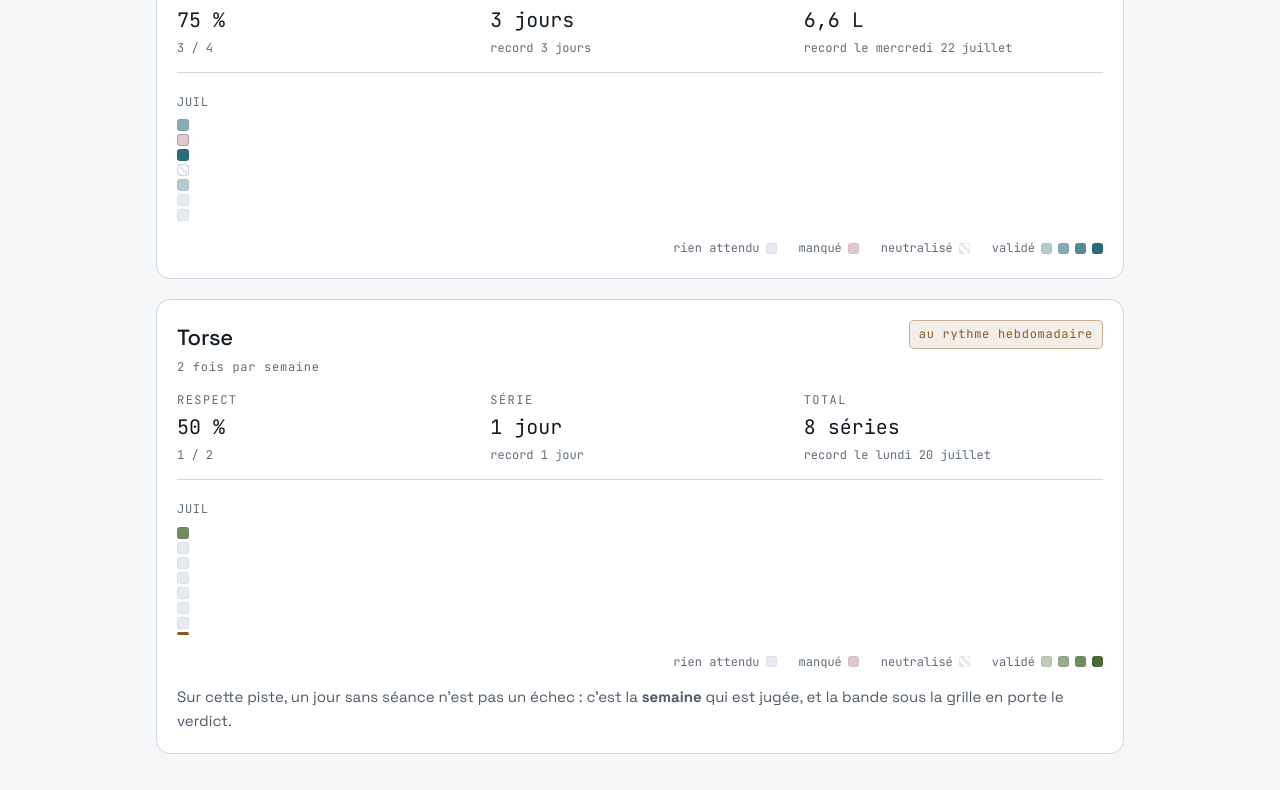
Test case: écran Assiduité › referme le tiroir
(page scrolled)
Click the button named "lundi 20 juillet, 8 série · validé" at (183, 532), box [177,526,189,538]
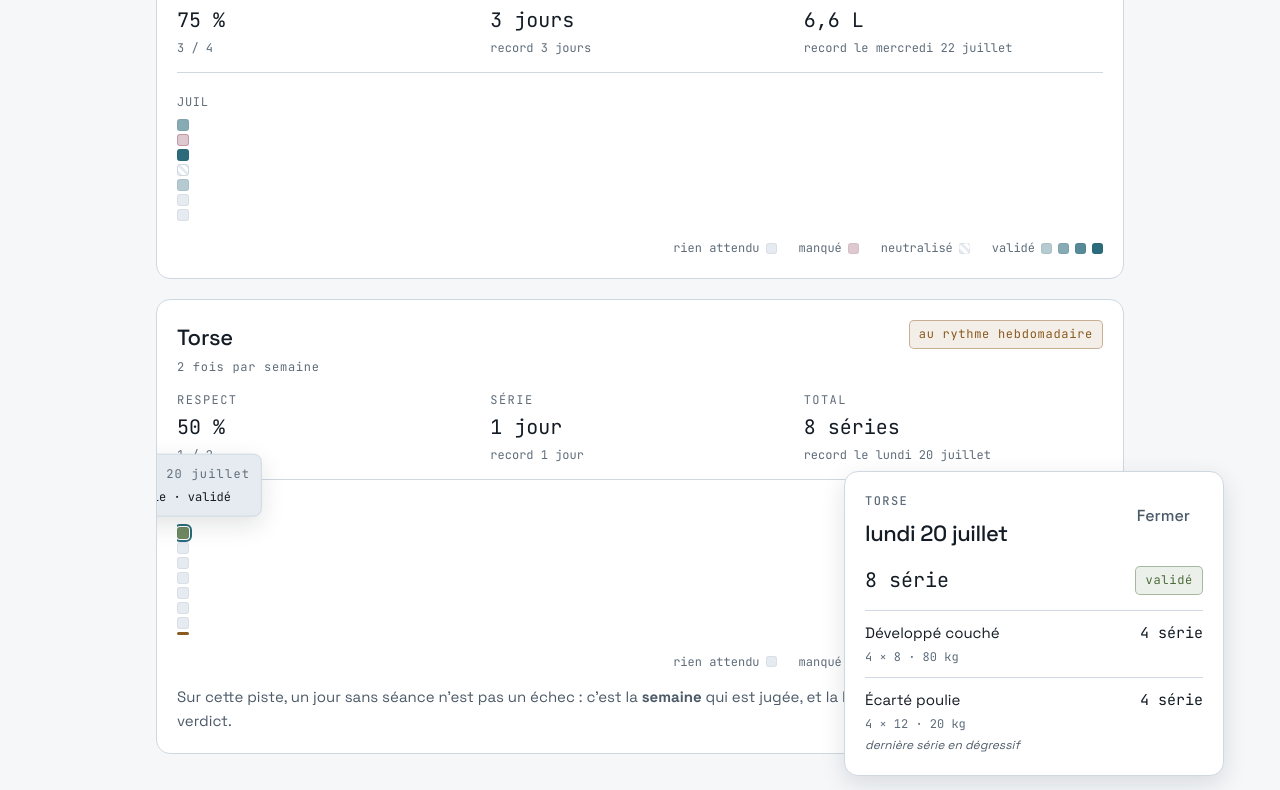
Now the dialog is shown, box [844,471,1224,776]
Click the button "Fermer" at (1163, 516), box [1124,492,1203,540]
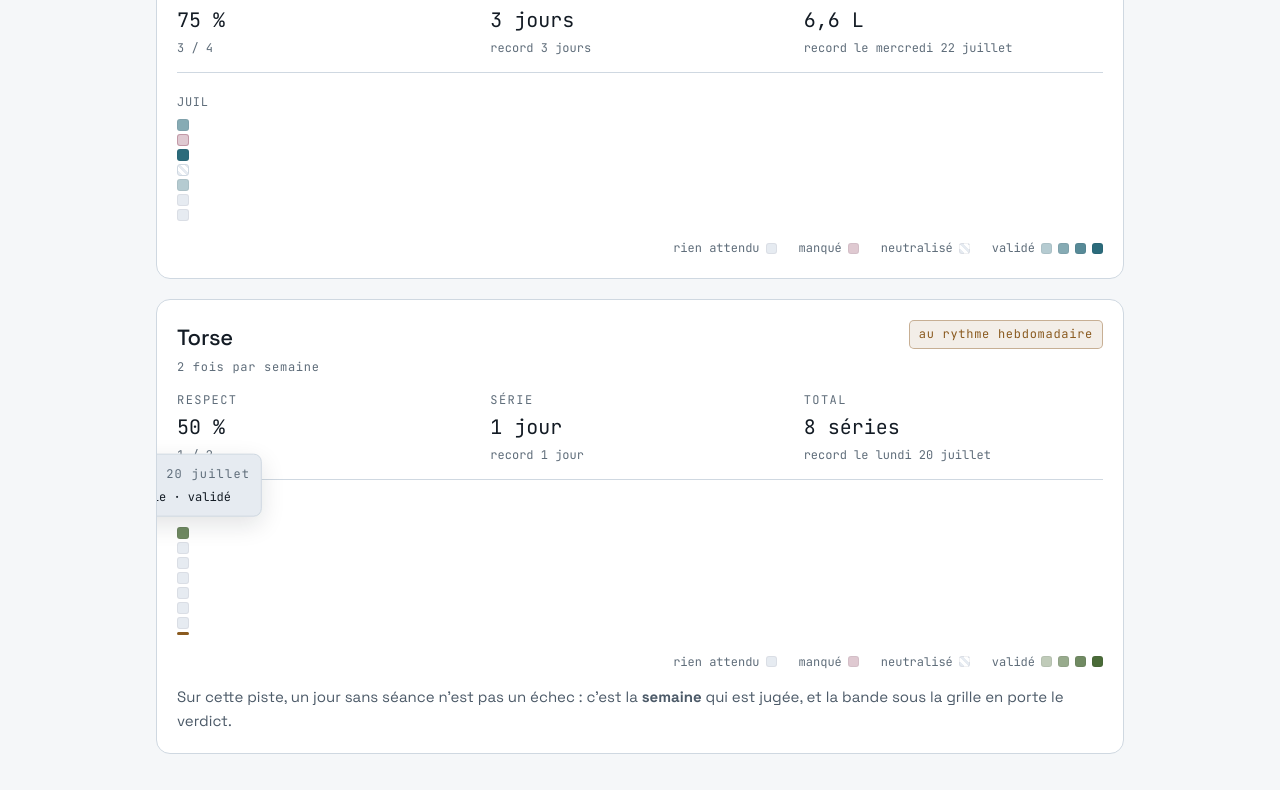
Now the dialog is gone
